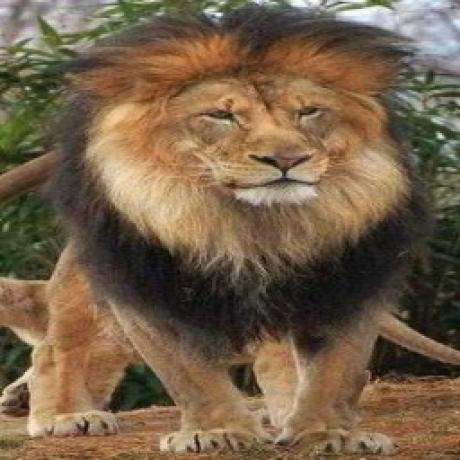Lion: (0, 0, 431, 458)
